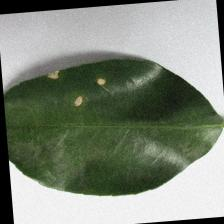canker: (46, 63, 112, 107)
